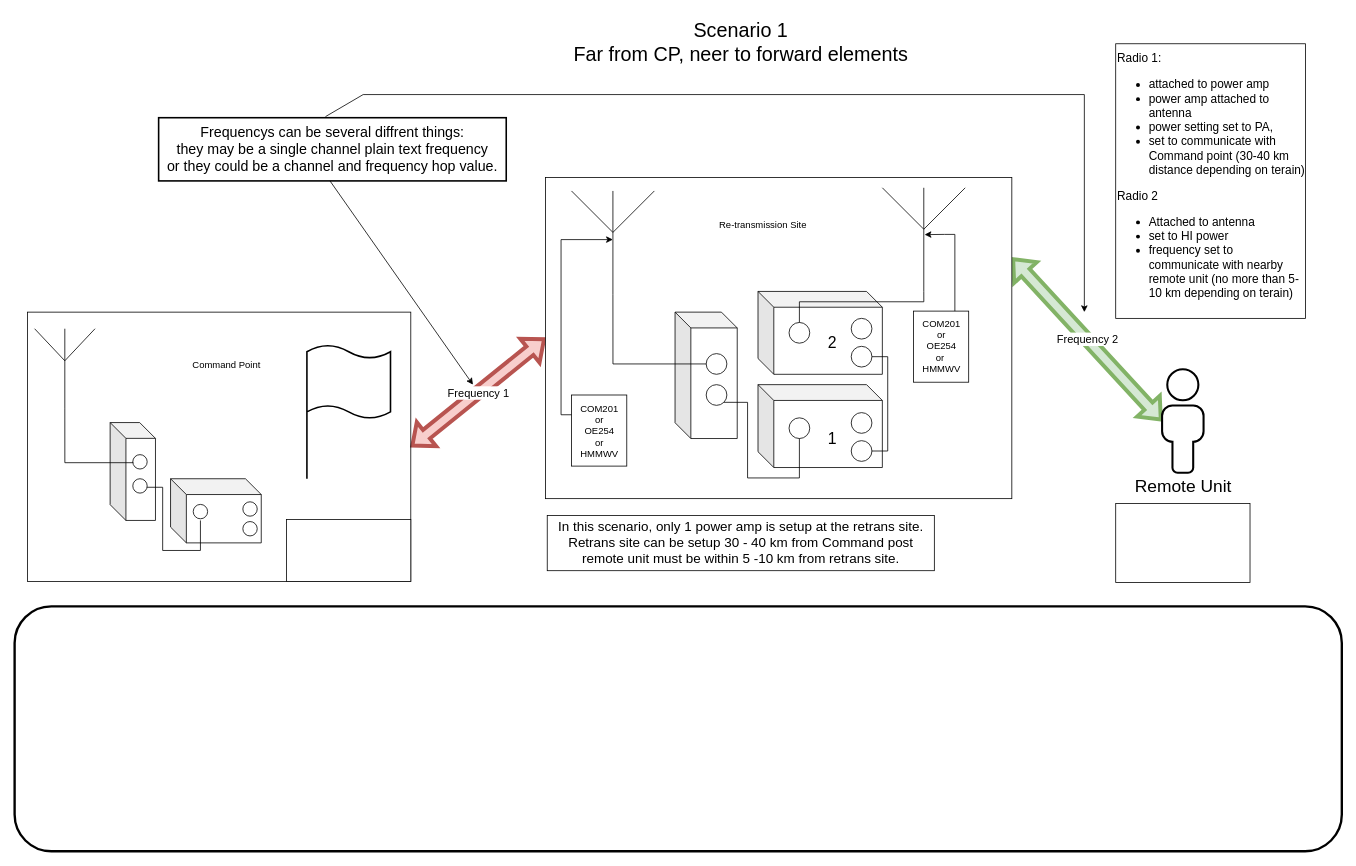
Some shapes in this 1356 by 866 pixel diagram are drawn without their labels. Here are the shapes that lost their labels. From the top down, the centre of each, then its label:
point (348, 550): Expect for the Command post to have a setup with a power amp.
point (1182, 543): Remote unit could have a man-pack, truck or could be a small encampment
